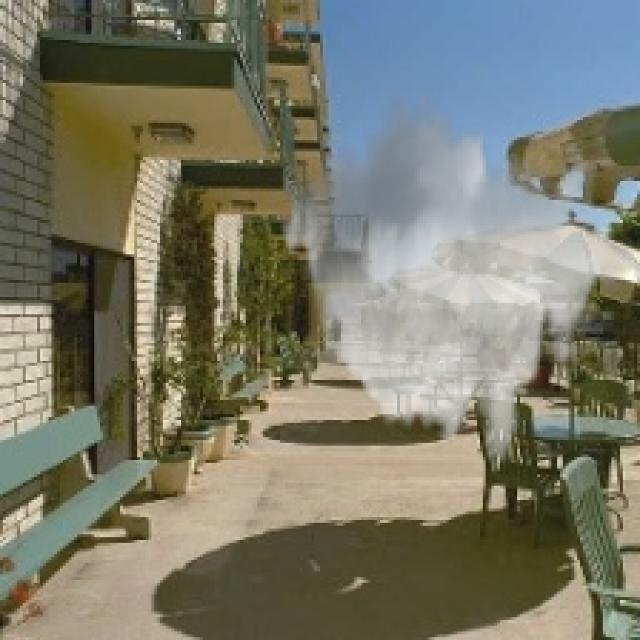smoke: (277, 89, 632, 472)
